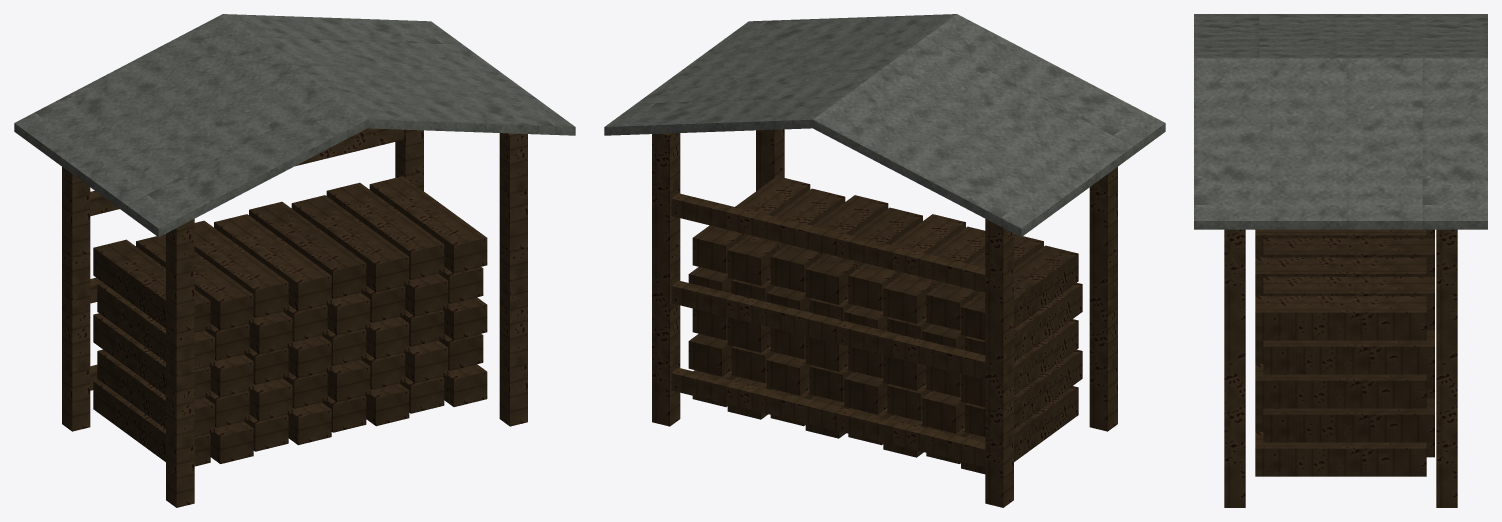
File: RURAL_abrigo_lenha.gltf
The picture shows the model from 3 angles, left to right: view 1: azimuth 30°, elevation 25°; view 2: azimuth 150°, elevation 25°; view 3: azimuth 270°, elevation 25°; orthographic projection.
Parts seen in each view (by area): view 1: abrigo_lenha_LENHA, abrigo_lenha_TELHADO, abrigo_lenha_POSTE, abrigo_lenha_FUNDOS; view 2: abrigo_lenha_TELHADO, abrigo_lenha_LENHA, abrigo_lenha_POSTE, abrigo_lenha_FUNDOS; view 3: abrigo_lenha_TELHADO, abrigo_lenha_LENHA, abrigo_lenha_POSTE.
Boxes of the visible parts, x1=… form: abrigo_lenha_LENHA: x1=93, y1=176, x2=487, y2=466; abrigo_lenha_TELHADO: x1=14, y1=14, x2=575, y2=237; abrigo_lenha_POSTE: x1=62, y1=129, x2=527, y2=507; abrigo_lenha_FUNDOS: x1=90, y1=128, x2=404, y2=390; abrigo_lenha_TELHADO: x1=604, y1=14, x2=1165, y2=237; abrigo_lenha_LENHA: x1=688, y1=176, x2=1082, y2=474; abrigo_lenha_POSTE: x1=652, y1=129, x2=1117, y2=507; abrigo_lenha_FUNDOS: x1=671, y1=193, x2=985, y2=466; abrigo_lenha_TELHADO: x1=1194, y1=14, x2=1487, y2=229; abrigo_lenha_LENHA: x1=1255, y1=229, x2=1434, y2=476; abrigo_lenha_POSTE: x1=1224, y1=229, x2=1457, y2=507.
Bounding box in the file's own units: 3 × 2.45 × 1.8.
Materials: 2 (2 with a texture image).
